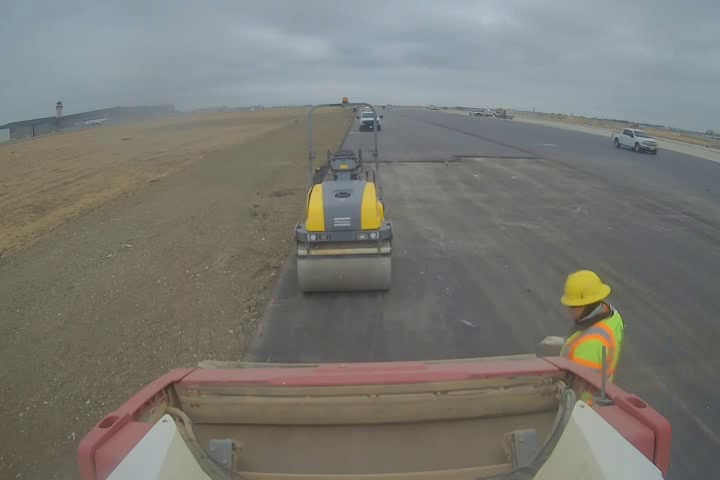person: (542, 266, 634, 391)
vehicle: (72, 351, 671, 480), (292, 102, 394, 293), (611, 123, 663, 154), (351, 108, 385, 130)
vest: (549, 301, 628, 387)
yellow_helmet: (559, 266, 611, 328)
